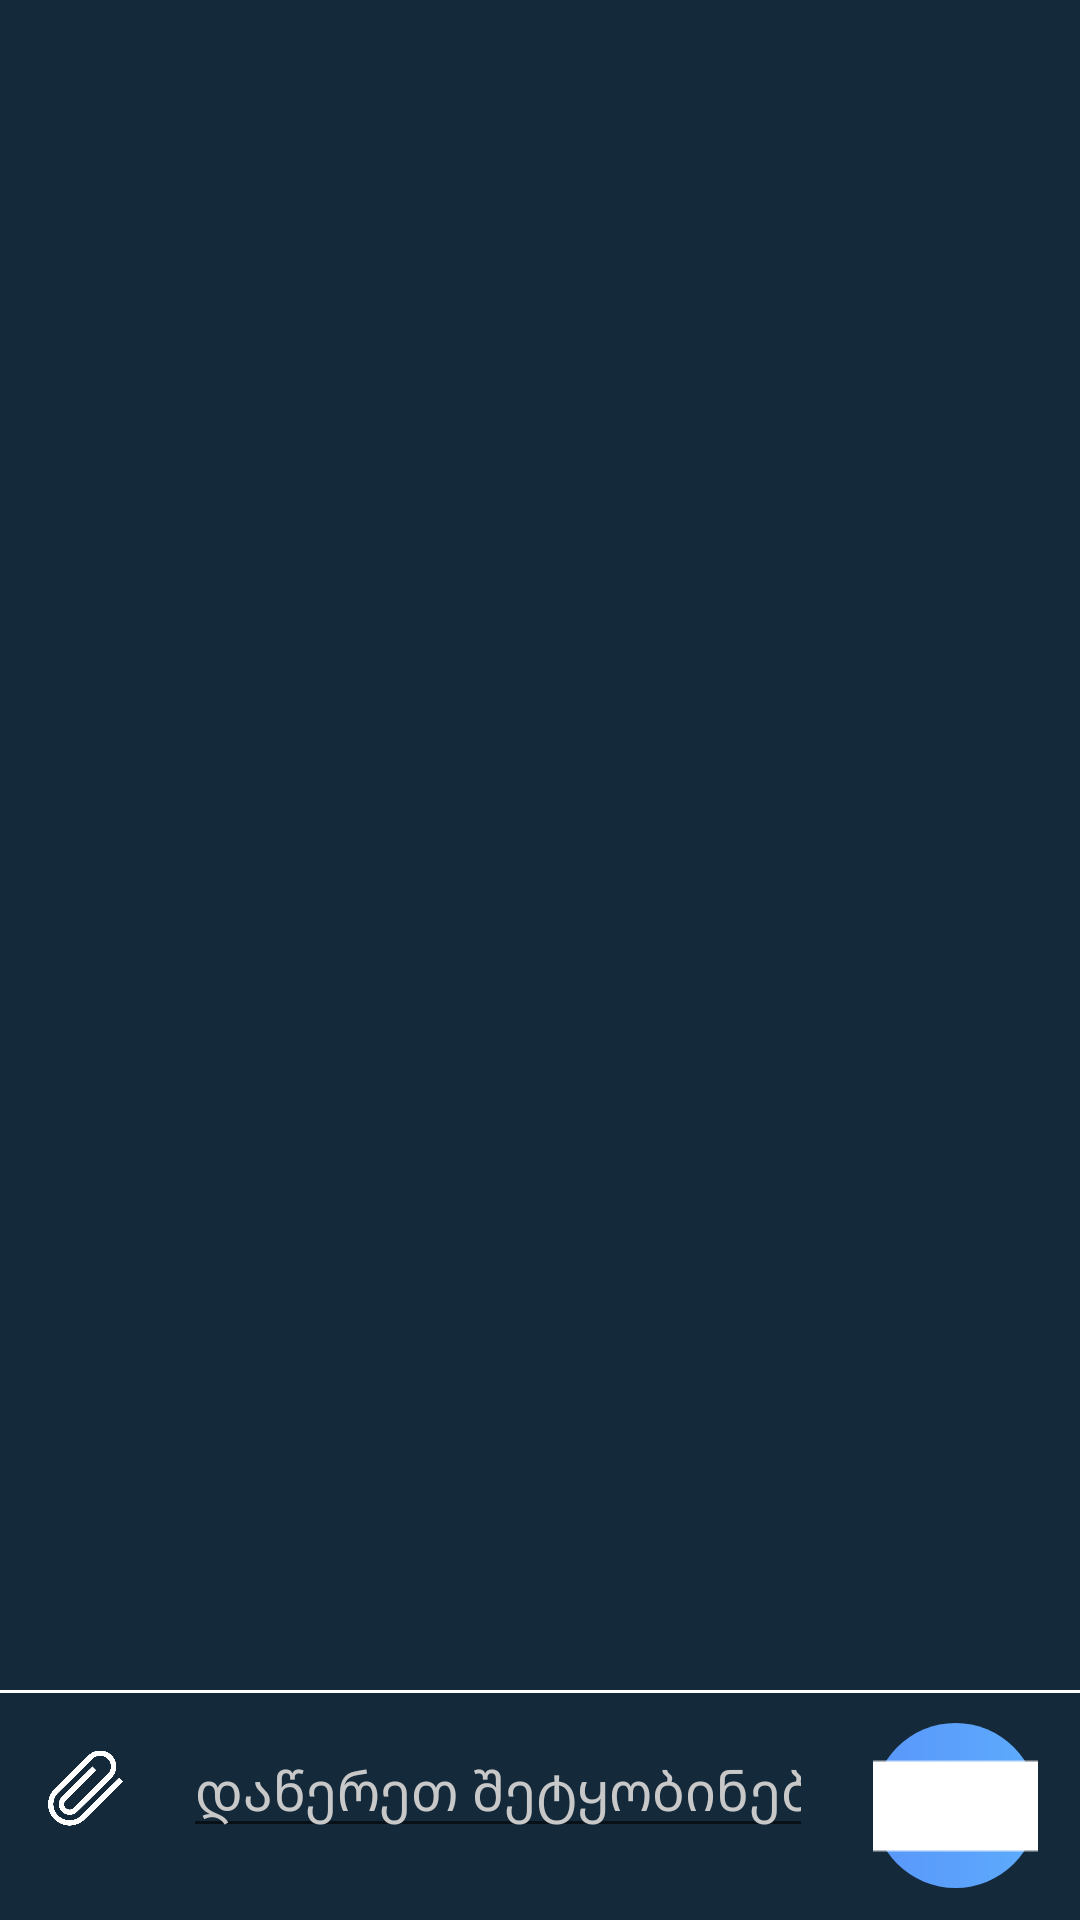

Named icons in this screenshot (1080*1920) and their centers, point (x, y):
attach paperclips: point (85, 1788)
